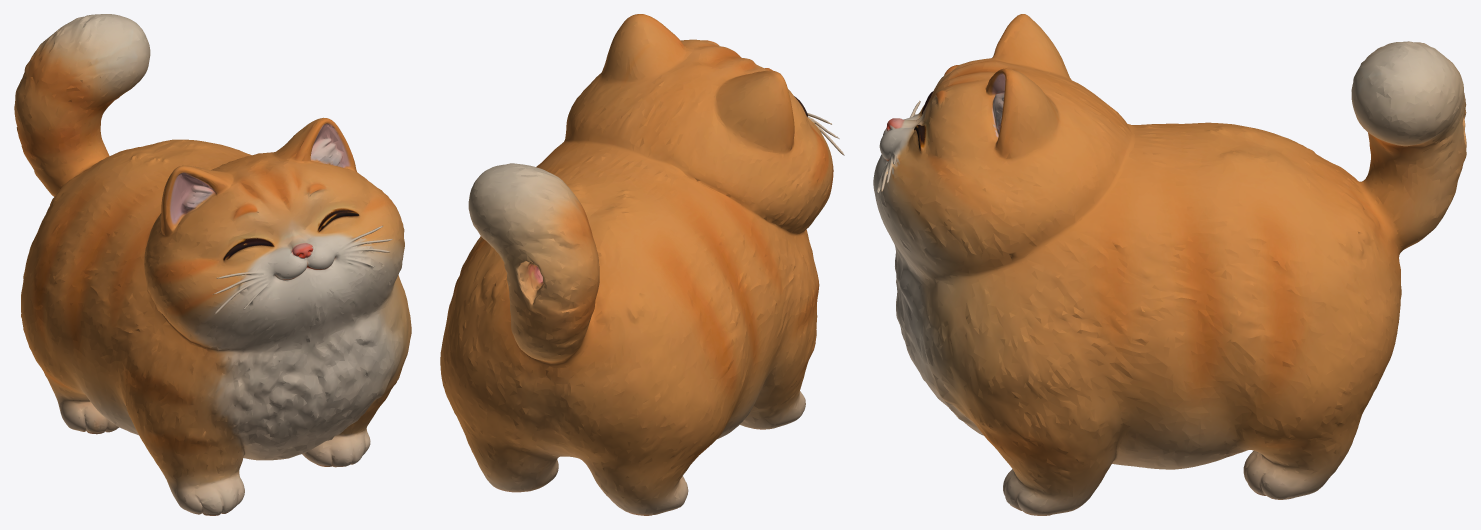
Rendered from tripo_convert_43784a09-c8eb-4b61-b5b9-e457343ca009.fbx.
The picture shows the model from 3 angles, left to right: view 1: azimuth 30°, elevation 25°; view 2: azimuth 150°, elevation 25°; view 3: azimuth 270°, elevation 25°; orthographic projection. The views are drawn at different scales.
Parts seen in each view (by area): view 1: tripo_node_43784a09; view 2: tripo_node_43784a09; view 3: tripo_node_43784a09.
Boxes of the visible parts, x1,y1,x2,y2 form: tripo_node_43784a09: [14, 14, 411, 515]; tripo_node_43784a09: [440, 14, 844, 515]; tripo_node_43784a09: [873, 14, 1466, 515].
Size of the model in its own units: 62.17 by 98.18 by 76.48.
Materials: 1 (1 with a texture image).
